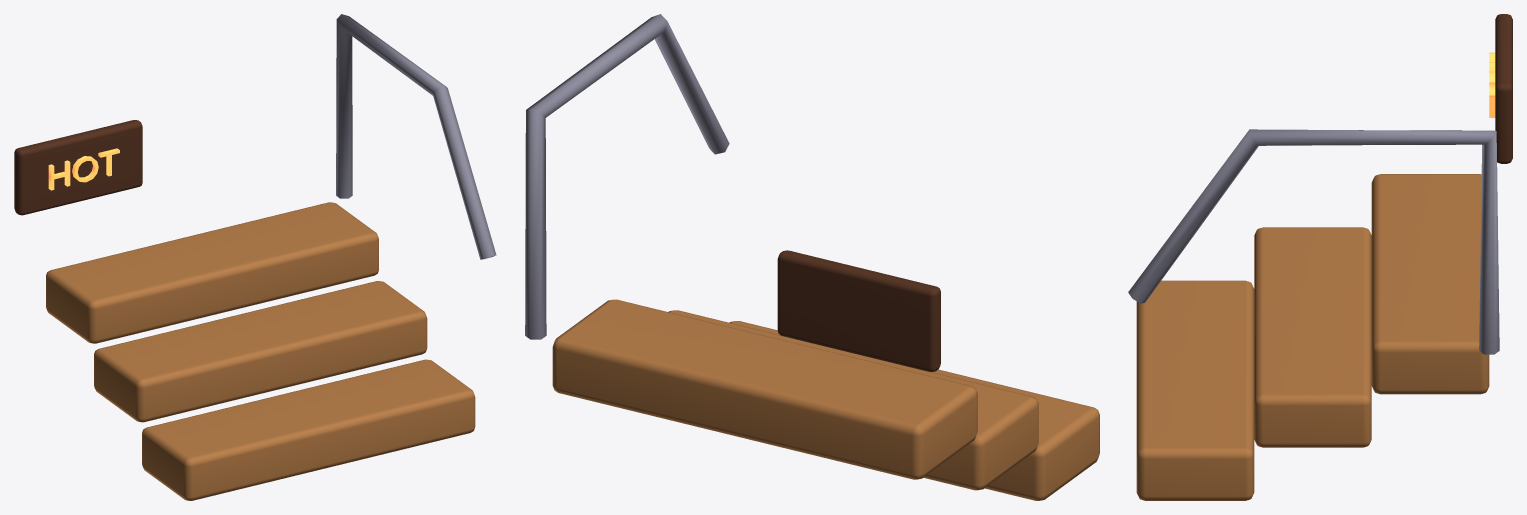
File: lava_spring_steps.glb
3 views of the same model, side by side, from view 1: azimuth 30°, elevation 25°; view 2: azimuth 150°, elevation 25°; view 3: azimuth 270°, elevation 25° (orthographic). The views are drawn at different scales.
Parts seen in each view (by area): view 1: SpringSteps; view 2: SpringSteps; view 3: SpringSteps.
Boxes of the visible parts, <box> form: SpringSteps: <box>14,14,496,500</box>; SpringSteps: <box>525,14,1099,500</box>; SpringSteps: <box>1128,14,1512,500</box>.
Size of the model in its own units: 1.58 by 1.43 by 1.31.
